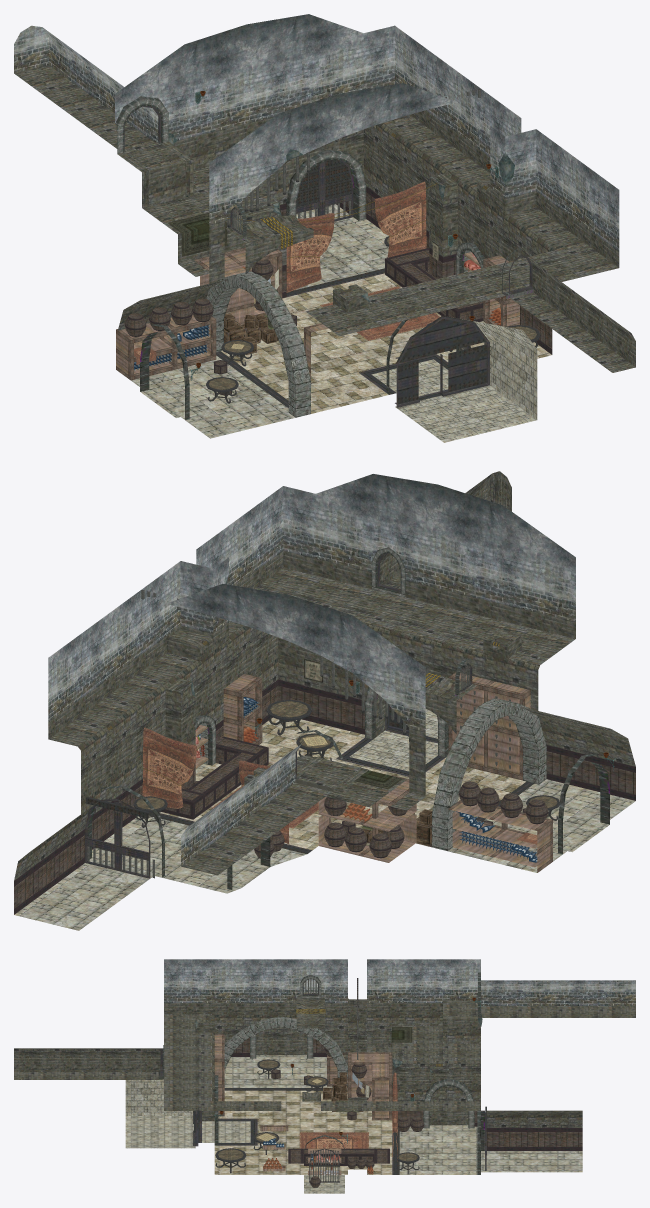
Rendered from tavern.glb.
The picture shows the model from 3 angles, top to bottom: view 1: azimuth 30°, elevation 25°; view 2: azimuth 150°, elevation 25°; view 3: azimuth 270°, elevation 25°; orthographic projection. The views are drawn at different scales.
Visible parts, largest first — view 1: FrontSide_13, FrontSide_1, FrontSide_6, FrontSide_5, FrontSide_10, FrontSide_8, FrontSide_9, FrontSide_7, FrontSide_4, FrontSide_3, FrontSide_0, FrontSide_11 (+1 smaller); view 2: FrontSide_13, FrontSide_1, FrontSide_4, FrontSide_6, FrontSide_7, FrontSide_10, FrontSide_5, FrontSide_9, FrontSide_8, FrontSide_2; view 3: FrontSide_13, FrontSide_1, FrontSide_6, FrontSide_8, FrontSide_4, FrontSide_10, FrontSide_7, FrontSide_5, FrontSide_9, FrontSide_2, FrontSide_3.
Part boxes in pixels (x1,y1,x2,y2): FrontSide_13: (14,65,635,372); FrontSide_1: (14,14,619,251); FrontSide_6: (131,204,537,442); FrontSide_5: (124,88,540,407); FrontSide_10: (115,96,533,420); FrontSide_8: (221,273,551,413); FrontSide_9: (134,181,500,370); FrontSide_7: (116,247,519,380); FrontSide_4: (125,186,552,395); FrontSide_3: (168,213,273,329); FrontSide_0: (168,133,514,301); FrontSide_11: (227,133,487,290); FrontSide_13: (14,471,635,880); FrontSide_1: (48,474,575,866); FrontSide_4: (14,679,635,914); FrontSide_6: (14,709,635,930); FrontSide_7: (195,672,552,872); FrontSide_10: (87,547,609,889); FrontSide_5: (85,552,559,878); FrontSide_9: (142,658,537,862); FrontSide_8: (159,717,525,850); FrontSide_2: (136,701,557,809); FrontSide_13: (14,997,635,1127); FrontSide_1: (164,959,635,1005); FrontSide_6: (125,1055,582,1193); FrontSide_8: (214,1090,392,1174); FrontSide_4: (231,1038,582,1187); FrontSide_10: (158,972,484,1174); FrontSide_7: (214,1034,392,1175); FrontSide_5: (160,978,486,1182); FrontSide_9: (214,1072,397,1174); FrontSide_2: (218,1060,417,1161); FrontSide_3: (336,1027,412,1112).
Bounding box in the file's own units: 24.74 × 13.07 × 47.01.
15 materials, 15 textured.
